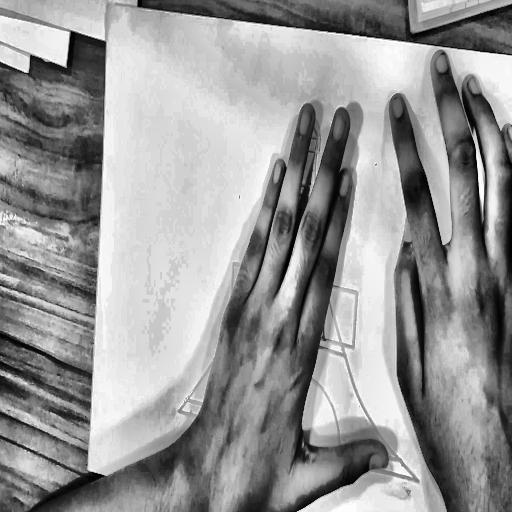bottom_left: (86, 465, 90, 473)
eiffel-tower: (156, 67, 450, 494)
top_left: (105, 1, 109, 8)
